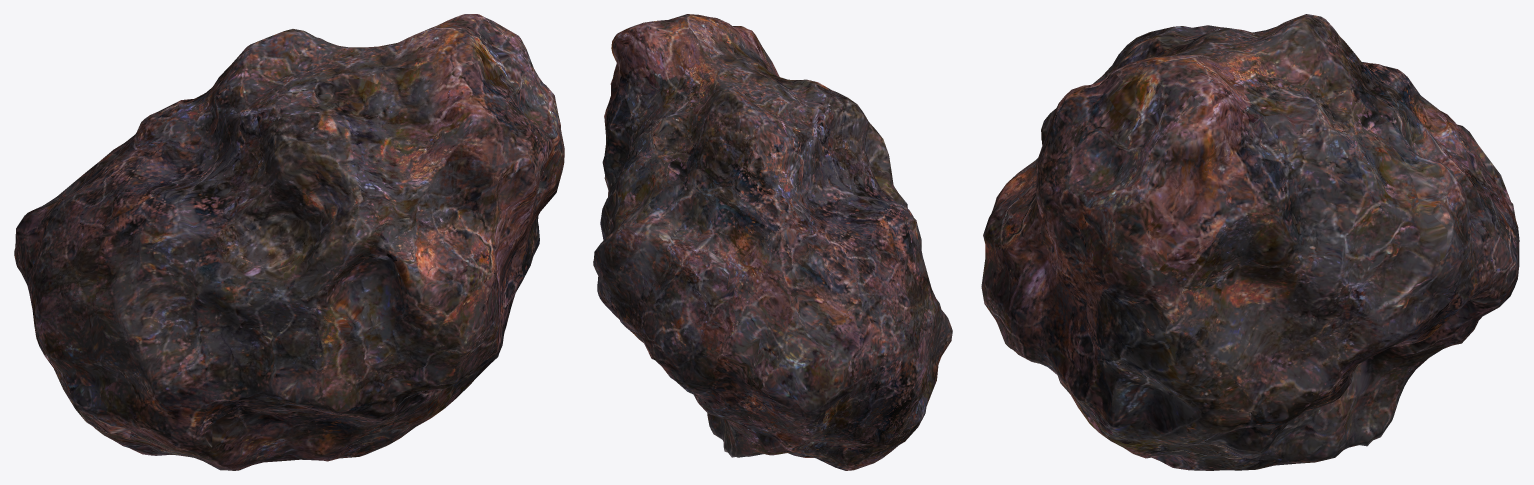
The model's file is asteroid2.obj.
3 renders of one model, left to right at view 1: azimuth 30°, elevation 25°; view 2: azimuth 150°, elevation 25°; view 3: azimuth 270°, elevation 25°, orthographic. The views are drawn at different scales.
Parts seen in each view (by area): view 1: asteroid2; view 2: asteroid2; view 3: asteroid2.
Boxes of the visible parts, x1,y1,x2,y2 form: asteroid2: (14,14,564,470); asteroid2: (593,14,952,470); asteroid2: (981,14,1519,470).
Size of the model in its own units: 1.85 by 1.68 by 1.74.
1 material, 1 textured.
